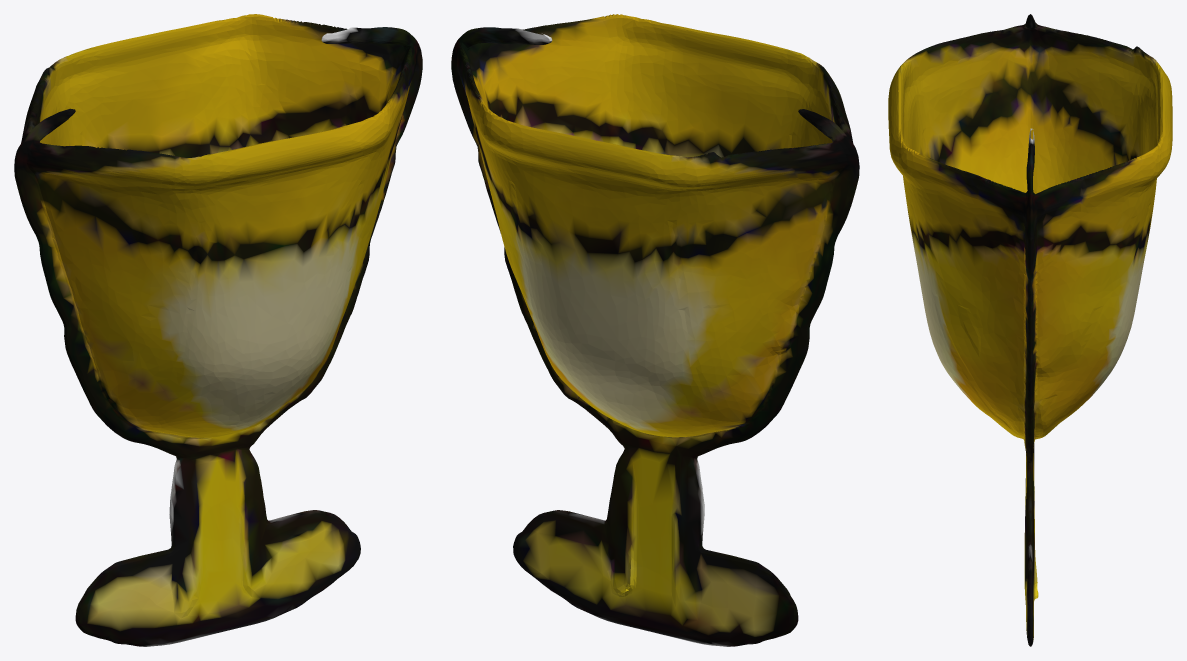
File: chalice.glb
3 renders of one model, left to right at view 1: azimuth 30°, elevation 25°; view 2: azimuth 150°, elevation 25°; view 3: azimuth 270°, elevation 25°, orthographic. The views are drawn at different scales.
Visible parts, largest first — view 1: geometry_0; view 2: geometry_0; view 3: geometry_0.
Boxes of the visible parts, x1=… form: geometry_0: x1=14, y1=14, x2=422, y2=646; geometry_0: x1=451, y1=14, x2=859, y2=646; geometry_0: x1=888, y1=14, x2=1172, y2=646.
Bounding box in the file's own units: 0.5 × 0.6693 × 0.3218.
